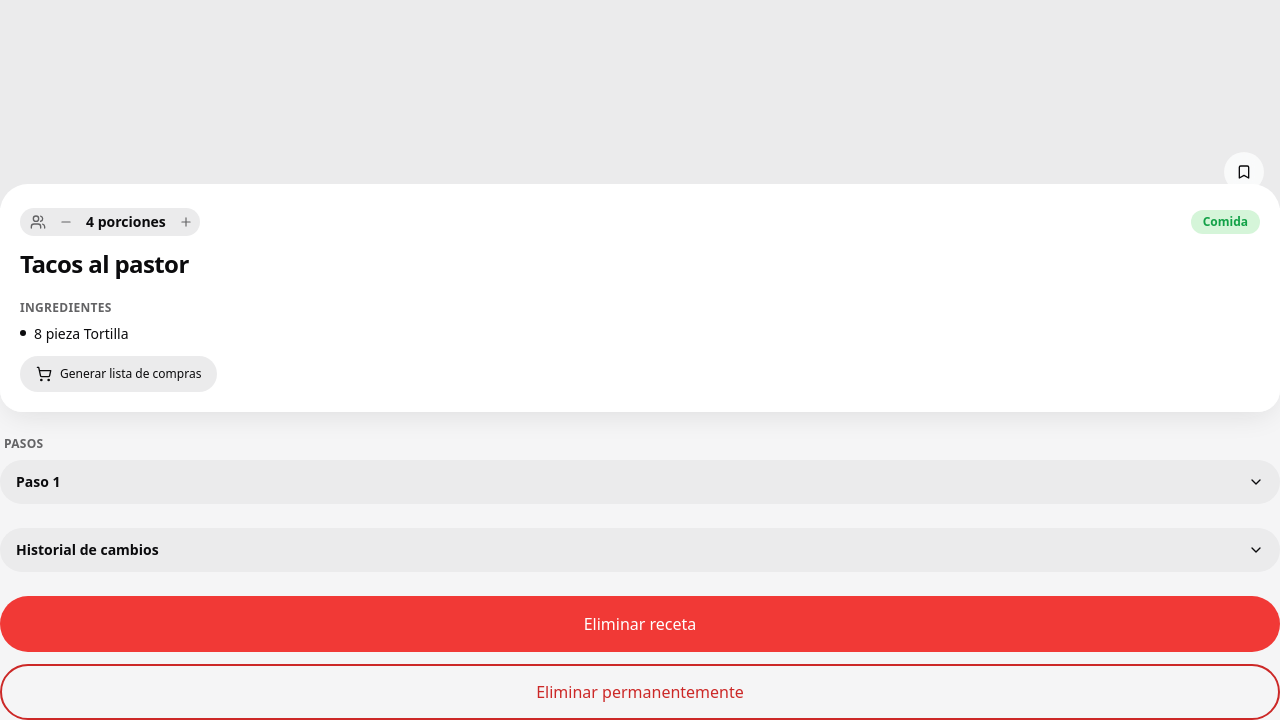
Scenario: RecipeDetail — history + delete confirmations (recipes-module) › the hard-delete confirmation step is visibly distinct from the soft-delete confirmation
The image size is (1280, 720).
(page scrolled)
Click the button "Eliminar permanentemente" at (640, 692), box left=0, top=664, right=1279, bottom=719
(page scrolled)
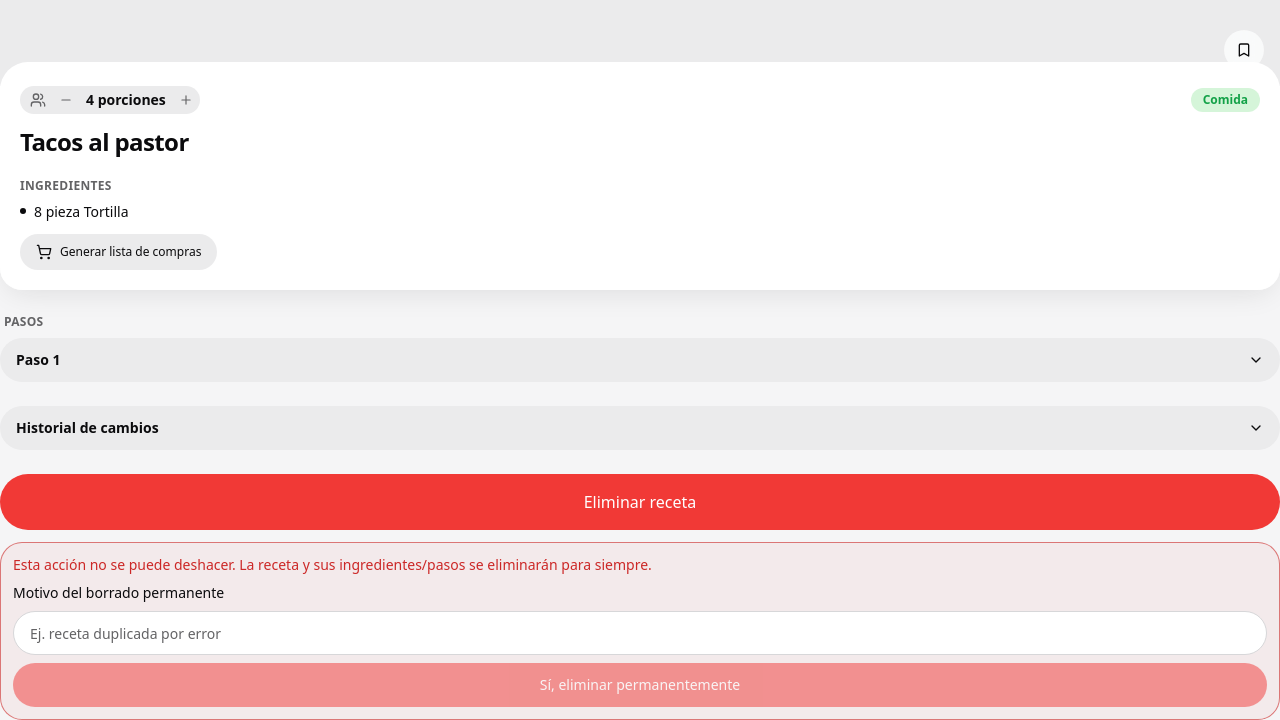
Check: the text "Esta acción no se puede deshacer" is shown, box left=13, top=555, right=652, bottom=574
Check: the button "Sí, eliminar permanentemente" is shown, box left=13, top=663, right=1267, bottom=707
